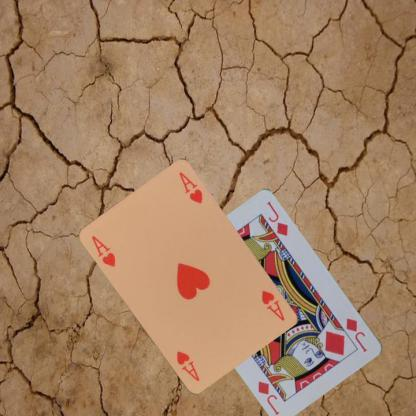Ah: (89, 233, 117, 268), (259, 288, 286, 322)
Jd: (343, 316, 369, 353)
